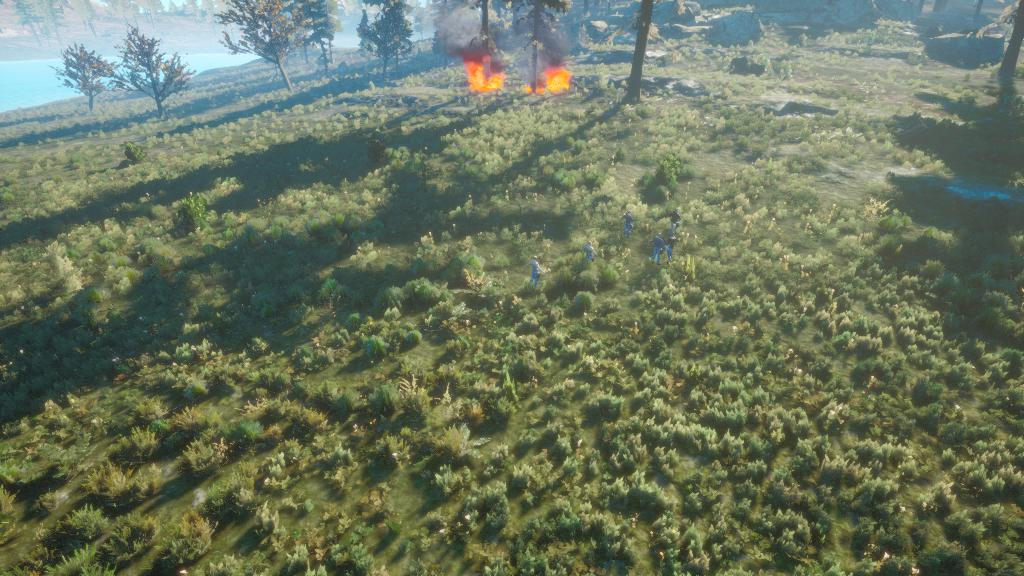Fire: (461, 56, 510, 99), (528, 62, 577, 95)
human: (647, 203, 705, 269), (520, 244, 559, 299), (609, 201, 642, 246), (580, 231, 604, 272)
smoke: (434, 23, 496, 56), (539, 32, 573, 68)
